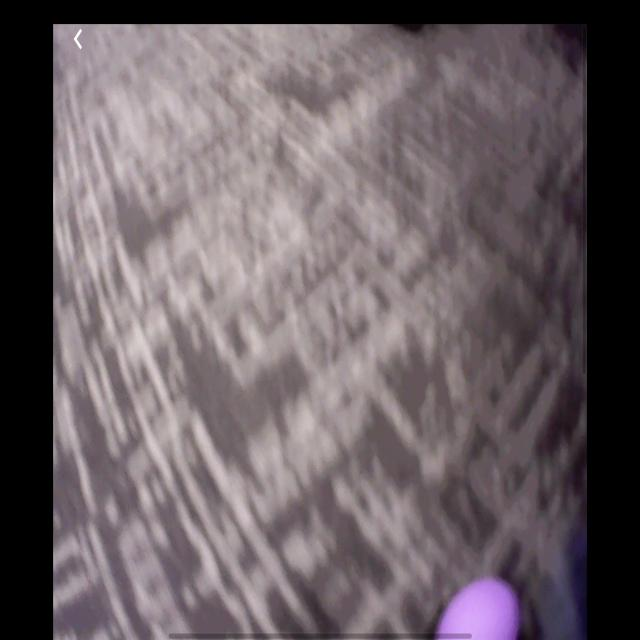ball: (438, 577, 523, 640)
